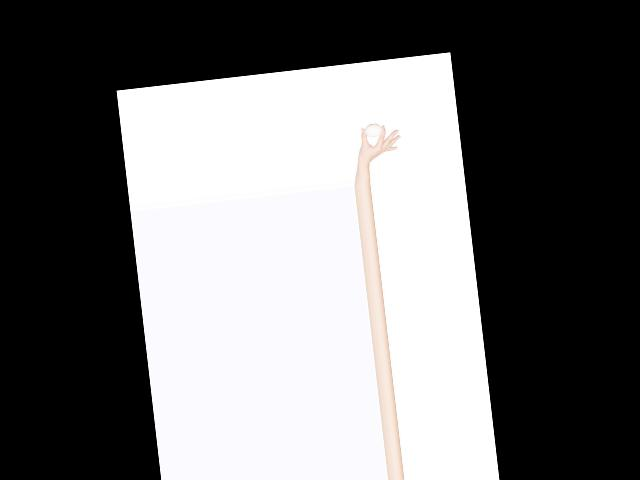egg: (363, 122, 382, 137)
